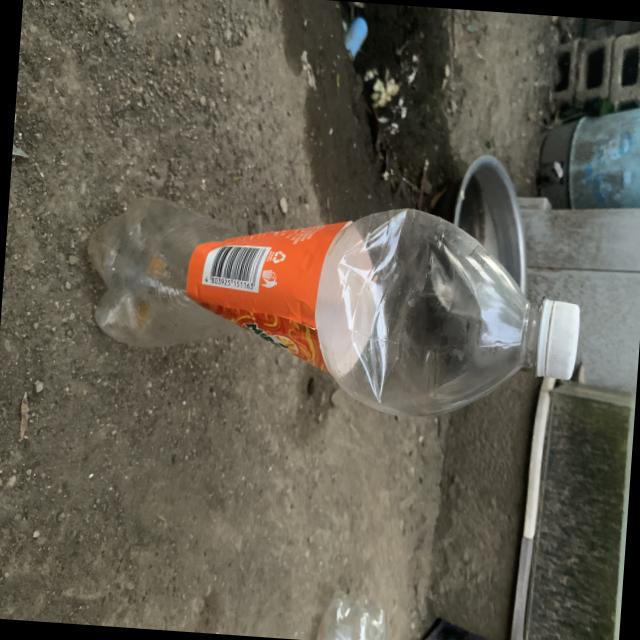Bottle: (87, 199, 578, 415)
